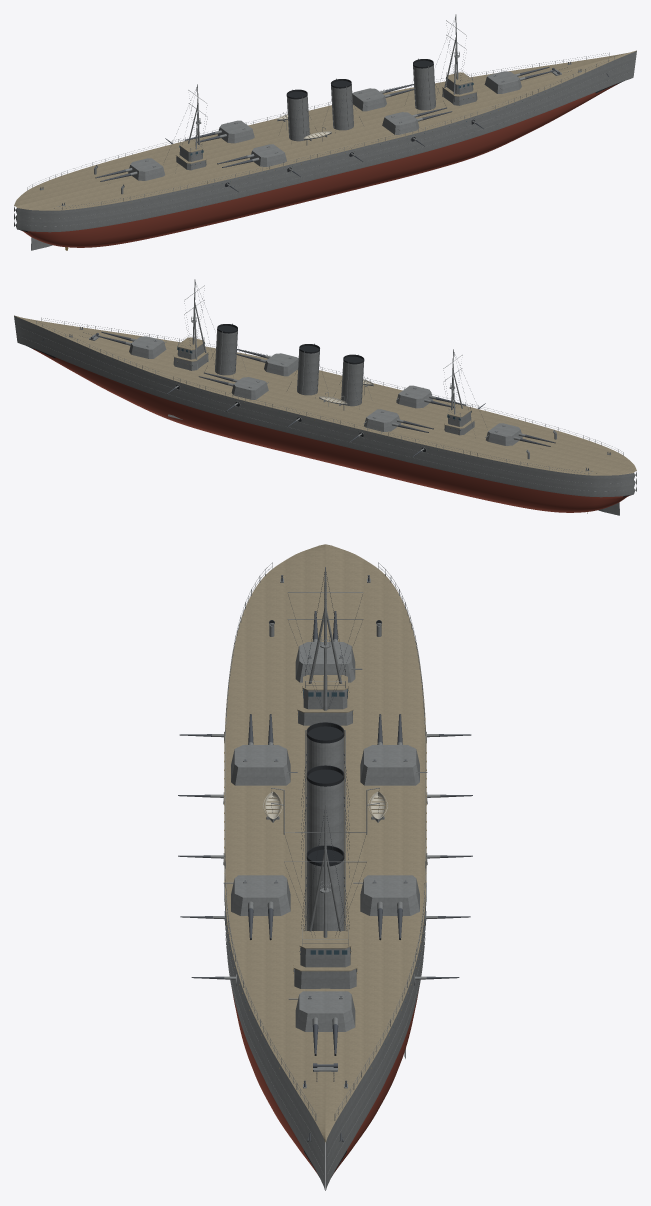
The model's file is kawachi.glb.
3 renders of one model, top to bottom at view 1: azimuth 30°, elevation 25°; view 2: azimuth 150°, elevation 25°; view 3: azimuth 270°, elevation 25°, orthographic. The views are drawn at different scales.
Parts seen in each view (by area): view 1: Kawachi class; view 2: Kawachi class; view 3: Kawachi class.
Part boxes in pixels (<box>): Kawachi class: <box>14,14,636,250</box>; Kawachi class: <box>14,279,636,515</box>; Kawachi class: <box>178,544,472,1190</box>.
Bounding box in the file's own units: 183 × 38.08 × 37.68.
Materials: 8 (2 with a texture image).
